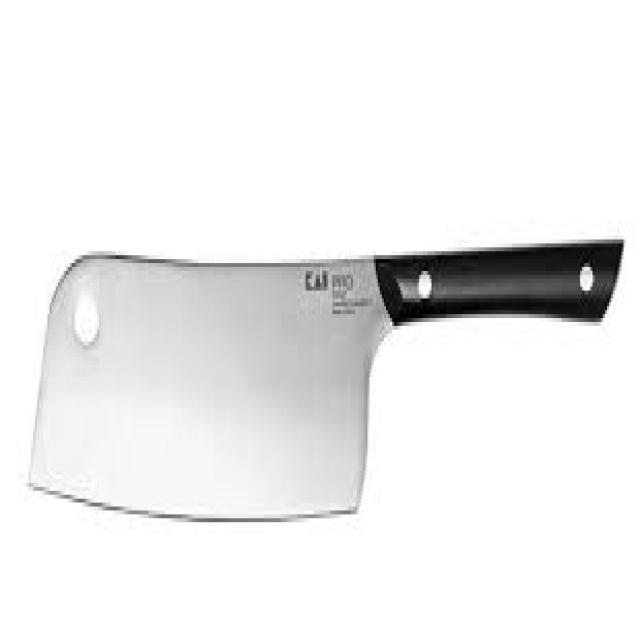Knife: (31, 240, 623, 518)
